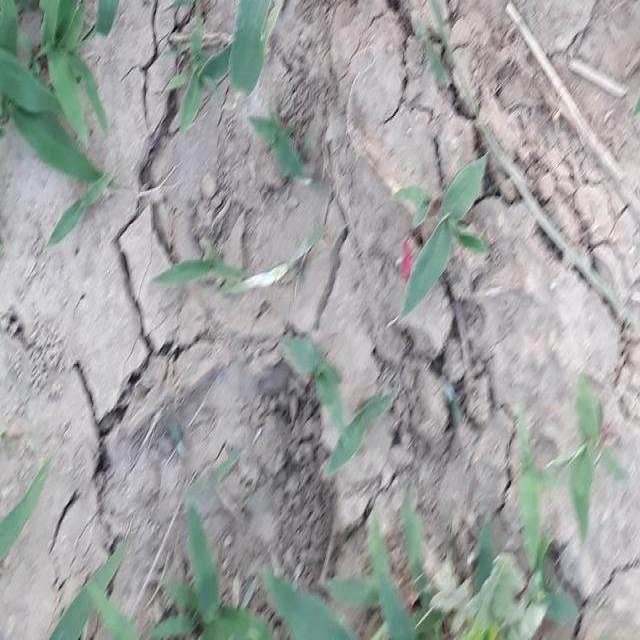weed: (56, 504, 578, 640), (0, 0, 133, 217)
